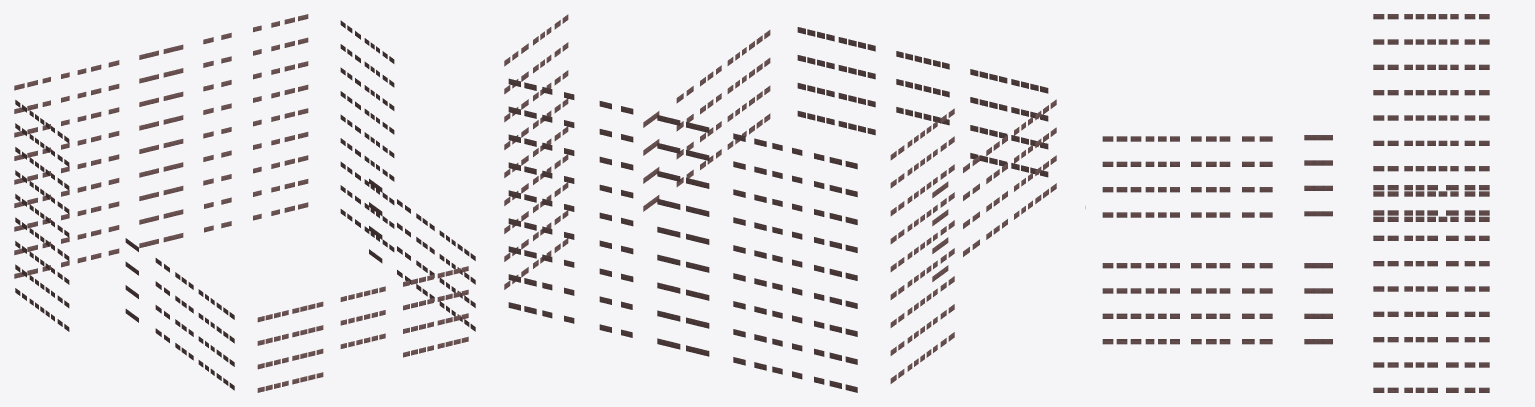
File: kongtiaoweilan.obj
3 renders of one model, left to right at view 1: azimuth 30°, elevation 25°; view 2: azimuth 150°, elevation 25°; view 3: azimuth 270°, elevation 25°, orthographic. The views are drawn at different scales.
Visible parts, largest first — view 1: kongtiaoweilan; view 2: kongtiaoweilan; view 3: kongtiaoweilan.
Boxes of the visible parts, x1=… form: kongtiaoweilan: x1=14, y1=14, x2=475, y2=392; kongtiaoweilan: x1=504, y1=14, x2=1056, y2=392; kongtiaoweilan: x1=1085, y1=14, x2=1489, y2=392.
Bounding box in the file's own units: 56400 × 32000 × 60650.
1 material, 1 textured.
